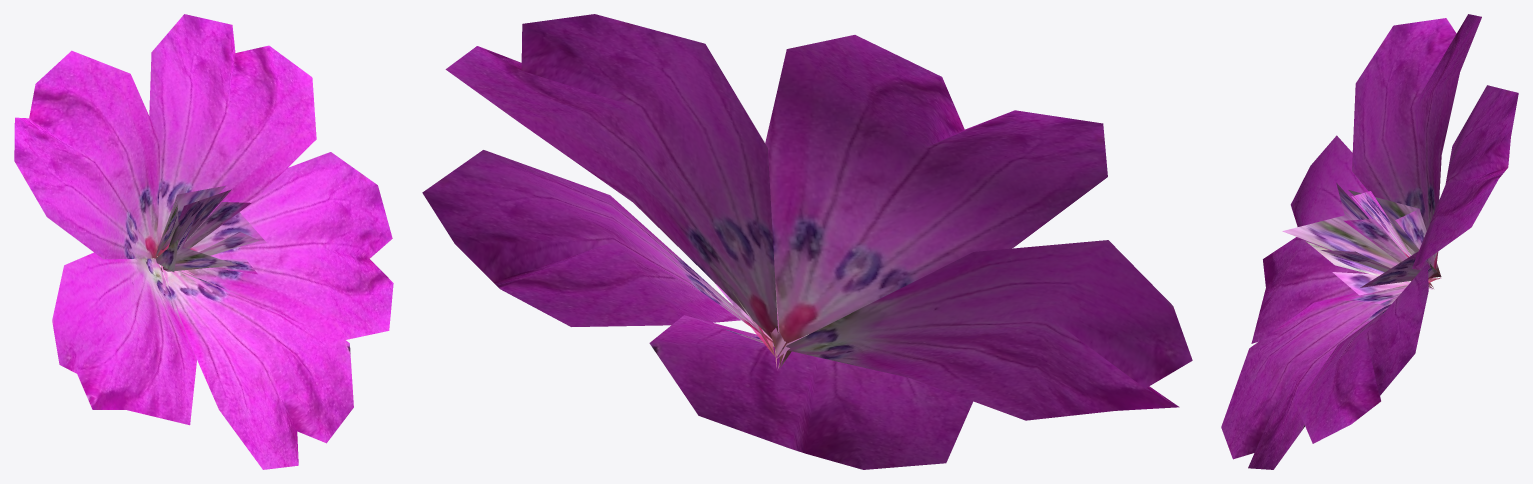
3 views of the same model, side by side, from view 1: azimuth 30°, elevation 25°; view 2: azimuth 150°, elevation 25°; view 3: azimuth 270°, elevation 25° (orthographic). The views are drawn at different scales.
Visible parts, largest first — view 1: Geranium Max Frei Flower.004; view 2: Geranium Max Frei Flower.004; view 3: Geranium Max Frei Flower.004.
Boxes of the visible parts, x1,y1,x2,y2 form: Geranium Max Frei Flower.004: [14, 14, 393, 469]; Geranium Max Frei Flower.004: [422, 14, 1192, 469]; Geranium Max Frei Flower.004: [1221, 14, 1518, 469].
Size of the model in its own units: 1.13 by 1.02 by 0.7195.
1 material, 1 textured.
